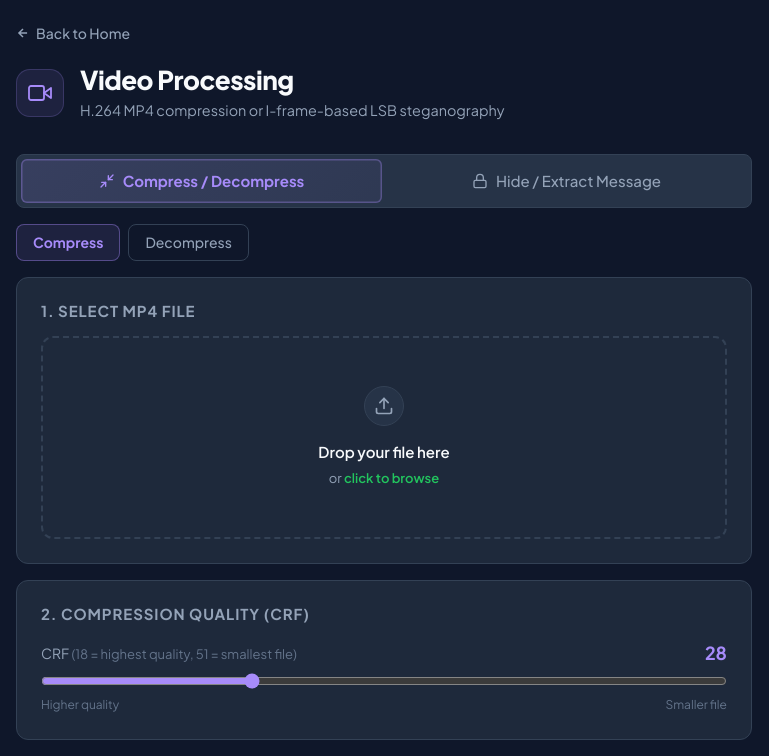
Test case: VideoPage › switches to stego mode and shows embed form
Click the tab "Hide / Extract Message" at (566, 181), box [386, 159, 747, 203]
(page scrolled)
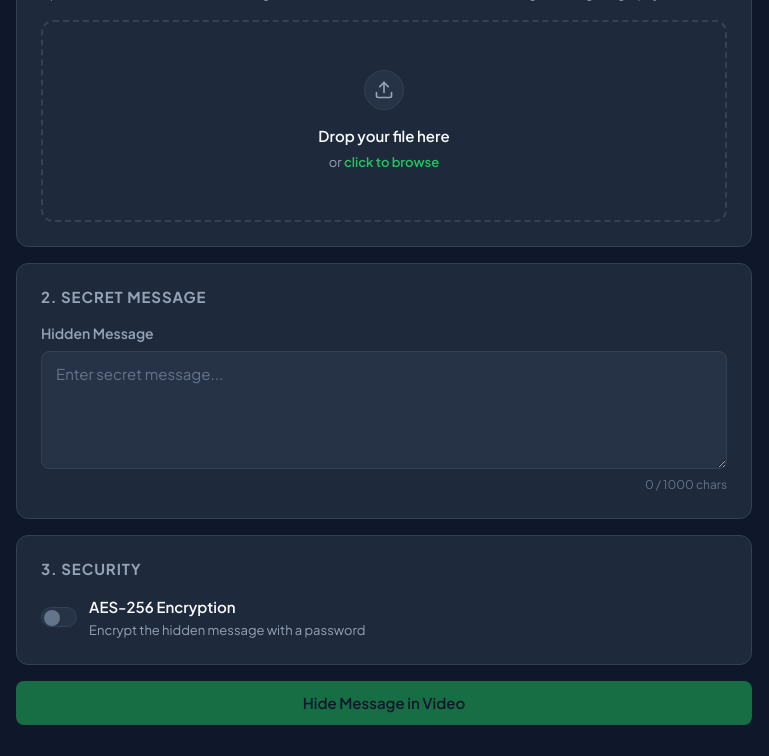
Result: the text "Hide Message in Video" is shown at [303, 691, 465, 715]
Result: the slider is gone
